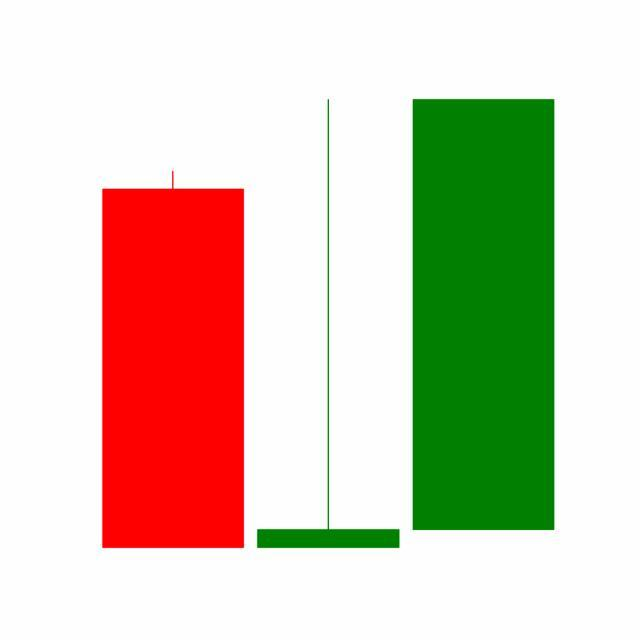Marubozu: (406, 95, 562, 535)
